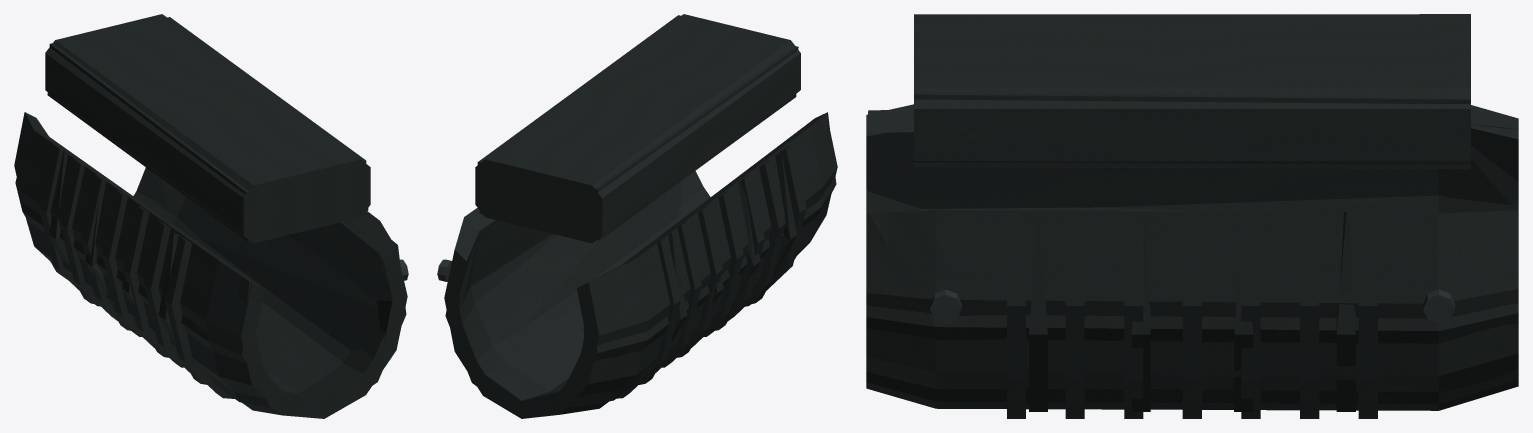
File: vityaz_guard.glb
The picture shows the model from 3 angles, left to right: view 1: azimuth 30°, elevation 25°; view 2: azimuth 150°, elevation 25°; view 3: azimuth 270°, elevation 25°; orthographic projection. The views are drawn at different scales.
Parts seen in each view (by area): view 1: handguard__vityaz_guard_LOD0_RAID_Secondary_Original_polymer, handguard__vityaz_guard_LOD1_RAID_Secondary_Original_polymer; view 2: handguard__vityaz_guard_LOD0_RAID_Secondary_Original_polymer, handguard__vityaz_guard_LOD1_RAID_Secondary_Original_polymer; view 3: handguard__vityaz_guard_LOD0_RAID_Secondary_Original_polymer, handguard__vityaz_guard_LOD1_RAID_Secondary_Original_polymer, handguard__vityaz_guard_LOD0_RAID_Secondary_Original_steel.
Part boxes in pixels (x1,y1,x2,y2): handguard__vityaz_guard_LOD0_RAID_Secondary_Original_polymer: (14,14,407,418); handguard__vityaz_guard_LOD1_RAID_Secondary_Original_polymer: (15,17,406,418); handguard__vityaz_guard_LOD0_RAID_Secondary_Original_polymer: (444,14,837,418); handguard__vityaz_guard_LOD1_RAID_Secondary_Original_polymer: (445,15,836,417); handguard__vityaz_guard_LOD0_RAID_Secondary_Original_polymer: (866,14,1518,418); handguard__vityaz_guard_LOD1_RAID_Secondary_Original_polymer: (866,14,1518,411); handguard__vityaz_guard_LOD0_RAID_Secondary_Original_steel: (929,289,1454,323).
Size of the model in its own units: 0.1066 by 0.1234 by 0.2051.
2 materials, 2 textured.
